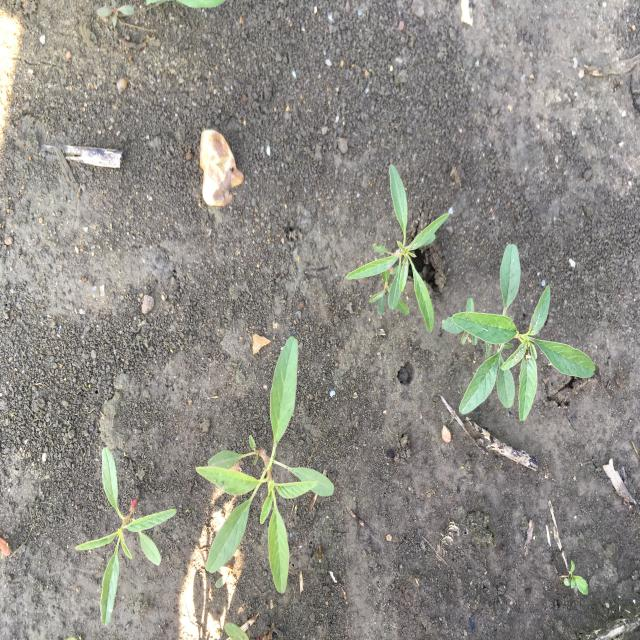Waterhemp: (194, 334, 335, 596), (440, 242, 597, 424), (74, 445, 178, 628), (346, 162, 452, 334)
